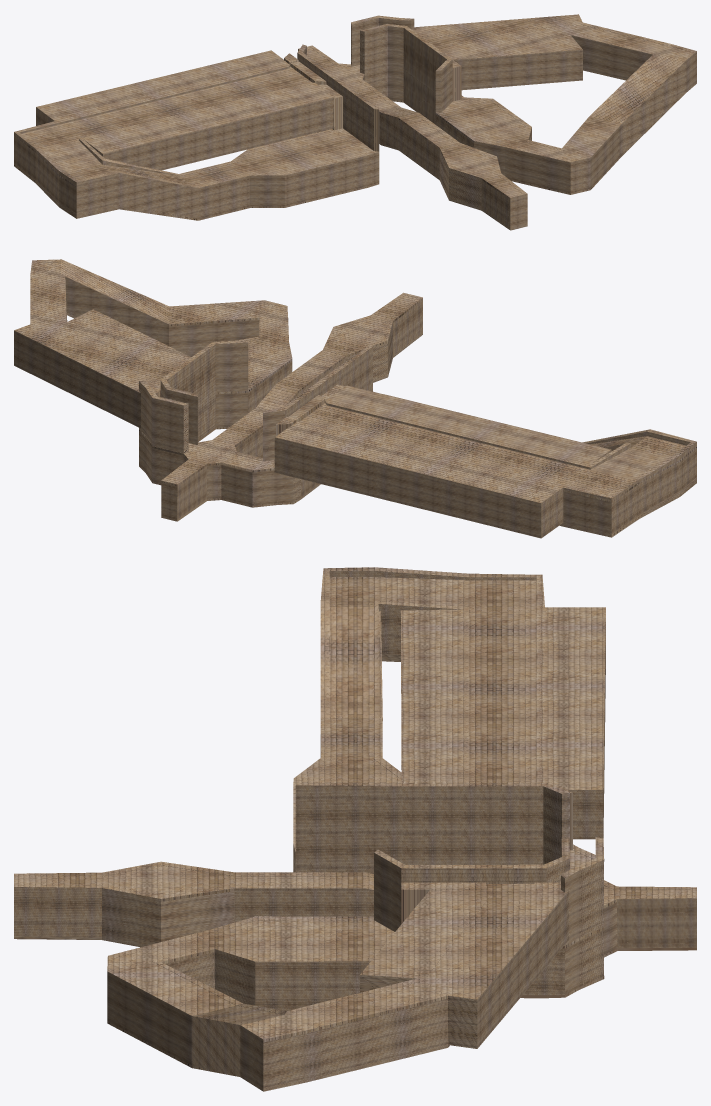
Rendered from Dungeon1.FBX.
3 views of the same model, one above another, from view 1: azimuth 30°, elevation 25°; view 2: azimuth 150°, elevation 25°; view 3: azimuth 270°, elevation 25° (orthographic). The views are drawn at different scales.
Parts seen in each view (by area): view 1: Box02, Object03; view 2: Box02, Object03; view 3: Box02, Object03.
Boxes of the visible parts, left/top/right/bottom form: Box02: left=14, top=14, right=696, bottom=230; Object03: left=14, top=25, right=691, bottom=199; Box02: left=14, top=259, right=696, bottom=538; Object03: left=30, top=262, right=696, bottom=502; Box02: left=14, top=567, right=696, bottom=1091; Object03: left=20, top=577, right=696, bottom=1042.
Bounding box in the file's own units: 3656 × 2246 × 433.
2 materials, 2 textured.
